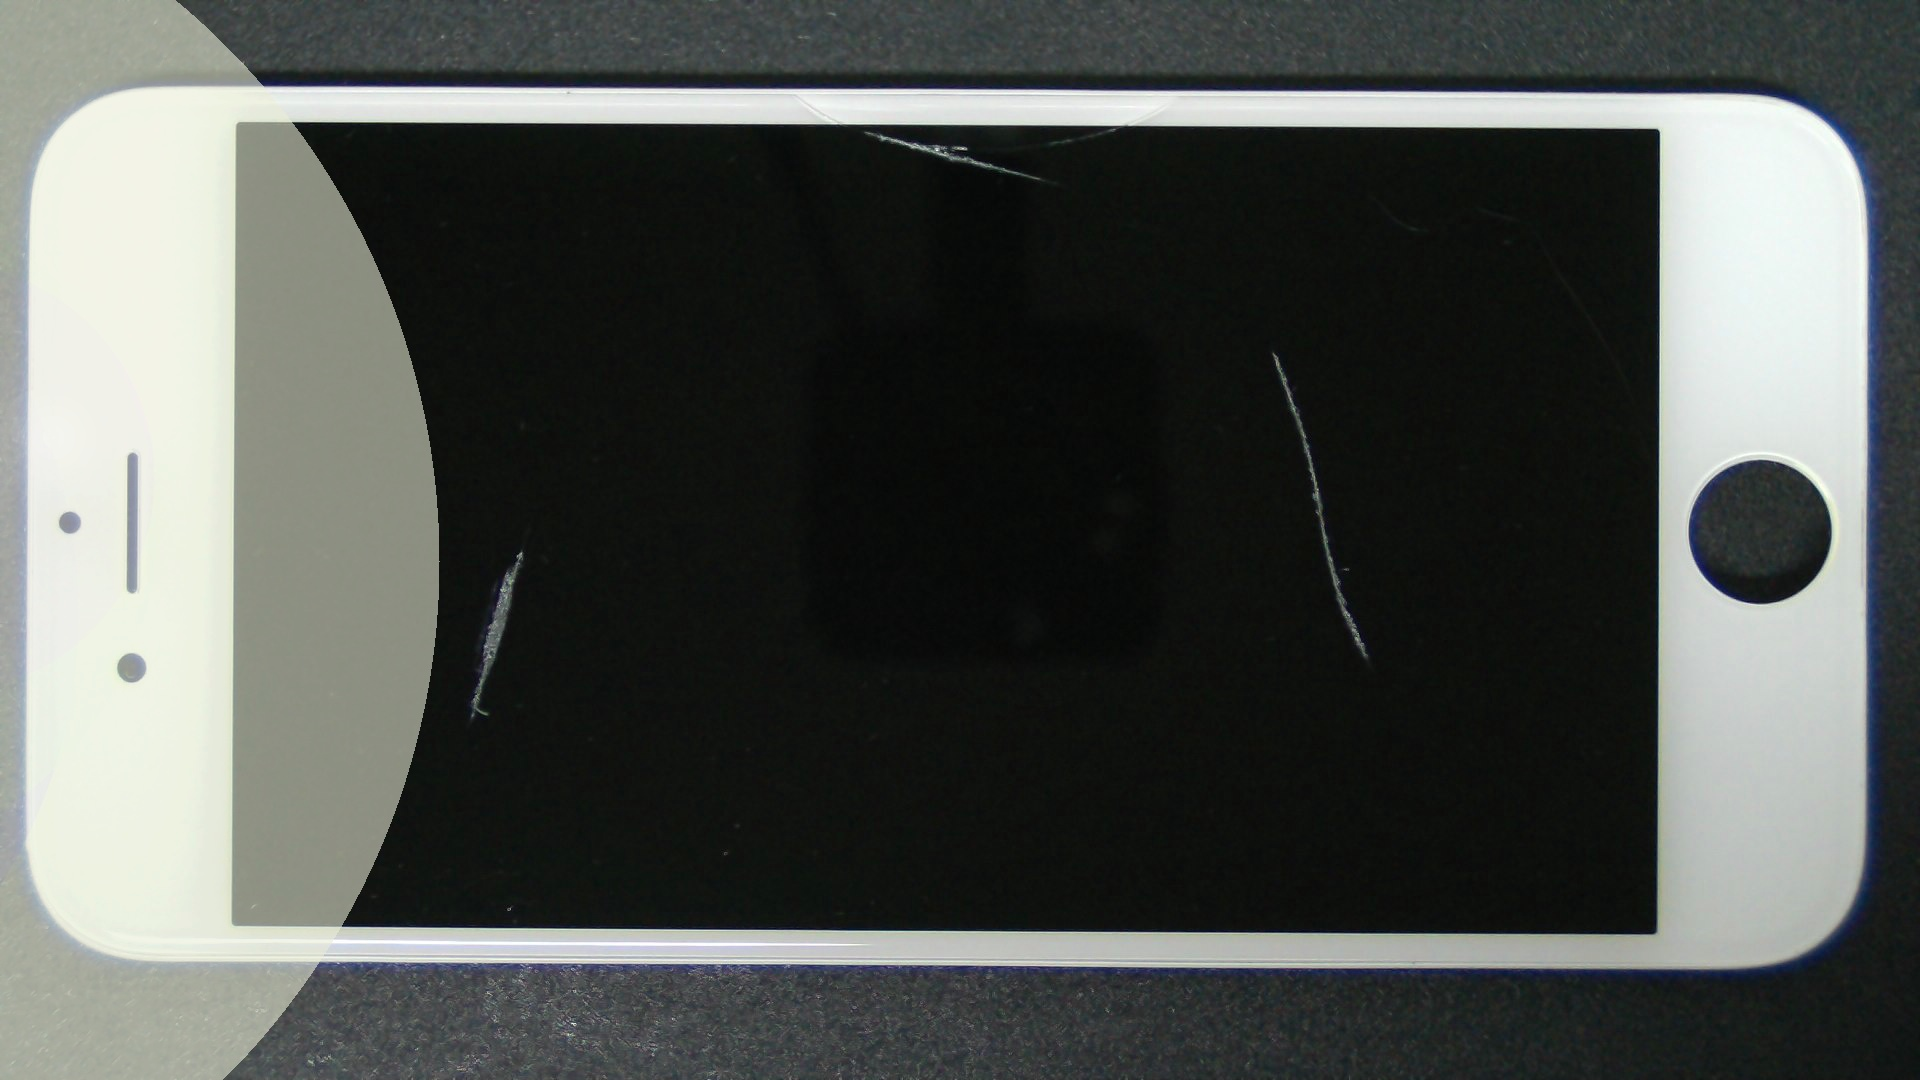oil: (636, 175, 1908, 527), (262, 273, 783, 823), (433, 65, 1296, 195)
